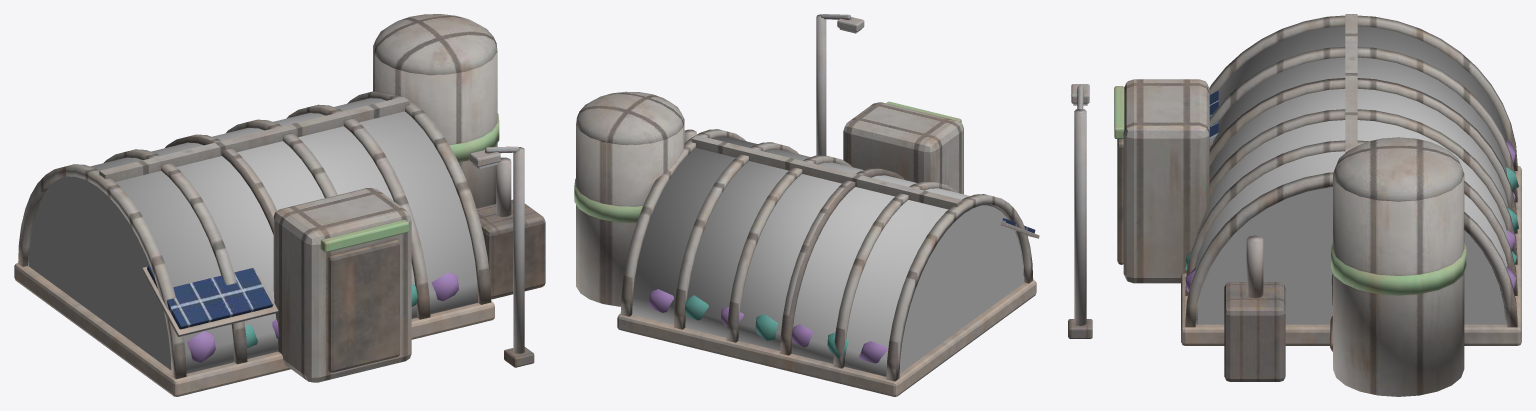
File: farmhouse.glb
3 views of the same model, side by side, from view 1: azimuth 30°, elevation 25°; view 2: azimuth 150°, elevation 25°; view 3: azimuth 270°, elevation 25° (orthographic). The views are drawn at different scales.
Parts seen in each view (by area): view 1: farmhouse, Glow; view 2: farmhouse, Glow; view 3: farmhouse, Glow.
Boxes of the visible parts, box(x1,y1,x2,y2) form: farmhouse: box(14, 14, 545, 396); Glow: box(28, 98, 497, 373); farmhouse: box(574, 14, 1039, 396); Glow: box(632, 28, 1024, 376); farmhouse: box(1068, 14, 1521, 396); Glow: box(1073, 26, 1508, 324).
Size of the model in its own units: 2.48 by 1.26 by 2.21.
Materials: 3 (1 with a texture image).
